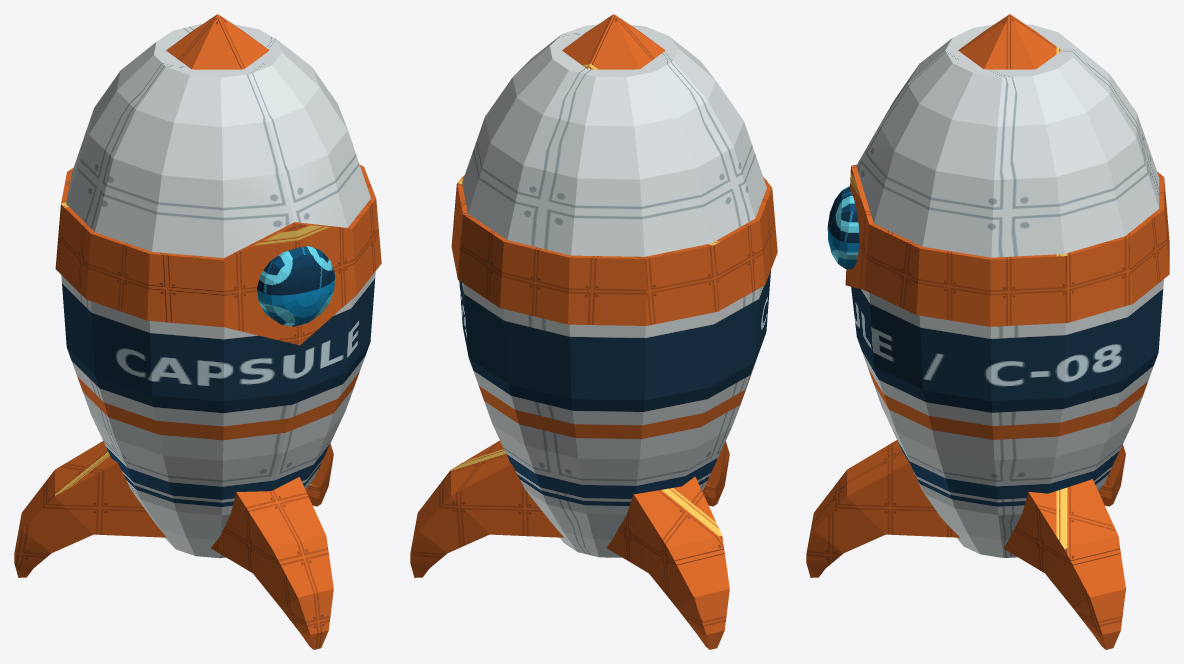
The model's file is Cohete.obj.
The picture shows the model from 3 angles, left to right: view 1: azimuth 30°, elevation 25°; view 2: azimuth 150°, elevation 25°; view 3: azimuth 270°, elevation 25°; orthographic projection.
Parts seen in each view (by area): view 1: rocket_Cube.002; view 2: rocket_Cube.002; view 3: rocket_Cube.002.
Boxes of the visible parts, left/top/right/bottom form: rocket_Cube.002: left=14, top=14, right=381, bottom=649; rocket_Cube.002: left=410, top=14, right=777, bottom=649; rocket_Cube.002: left=806, top=14, right=1169, bottom=649.
Size of the model in its own units: 8.51 by 14.53 by 8.51.
Materials: 3 (3 with a texture image).
